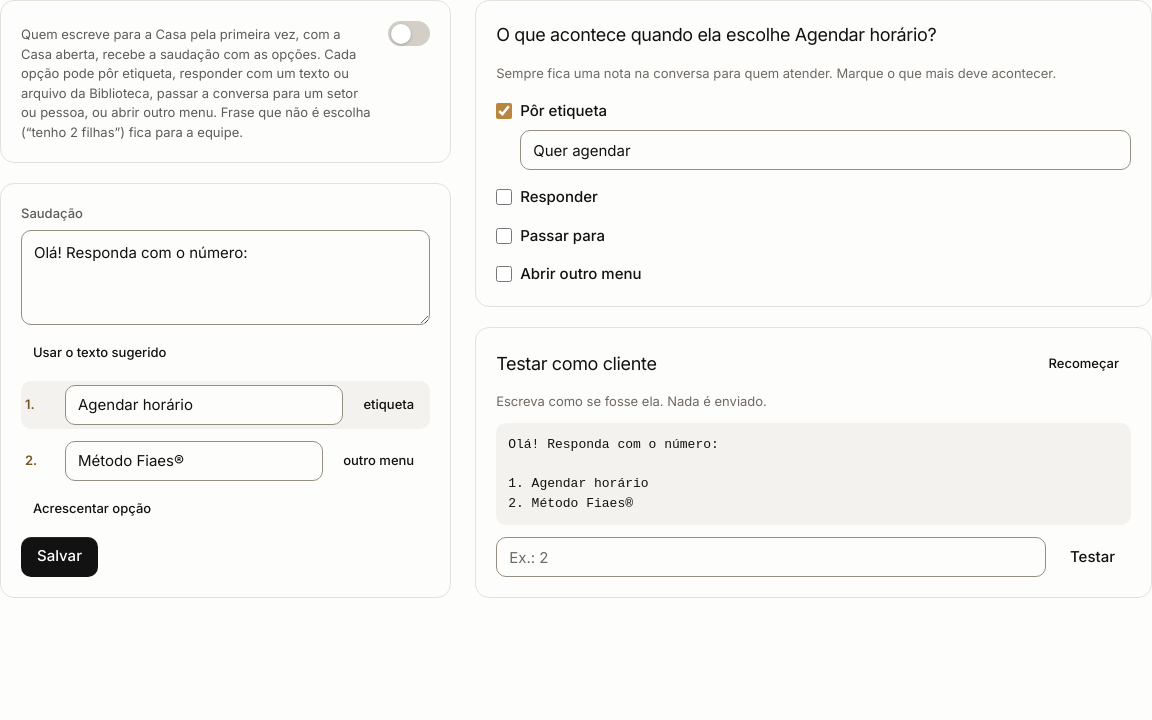
Test case: Testar como cliente: usa o menu da tela, entra no submenu e não envia nada
This screenshot has width=1152, height=720.
Expected: the text "1. Agendar horário" is shown, [508, 437, 719, 510]
In the field named "Ela escreve": (771,557) [496, 537, 1046, 577], type "tenho 2 filhas"
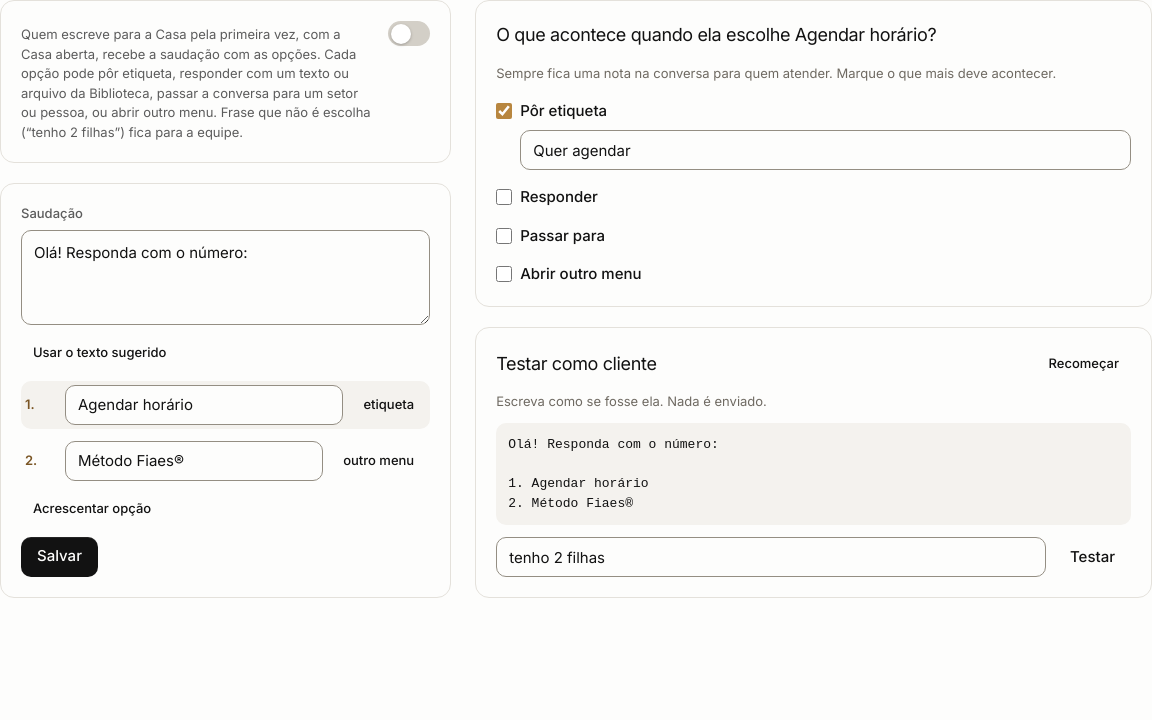
Click the button "Testar": (1092,557) [1054, 537, 1131, 577]
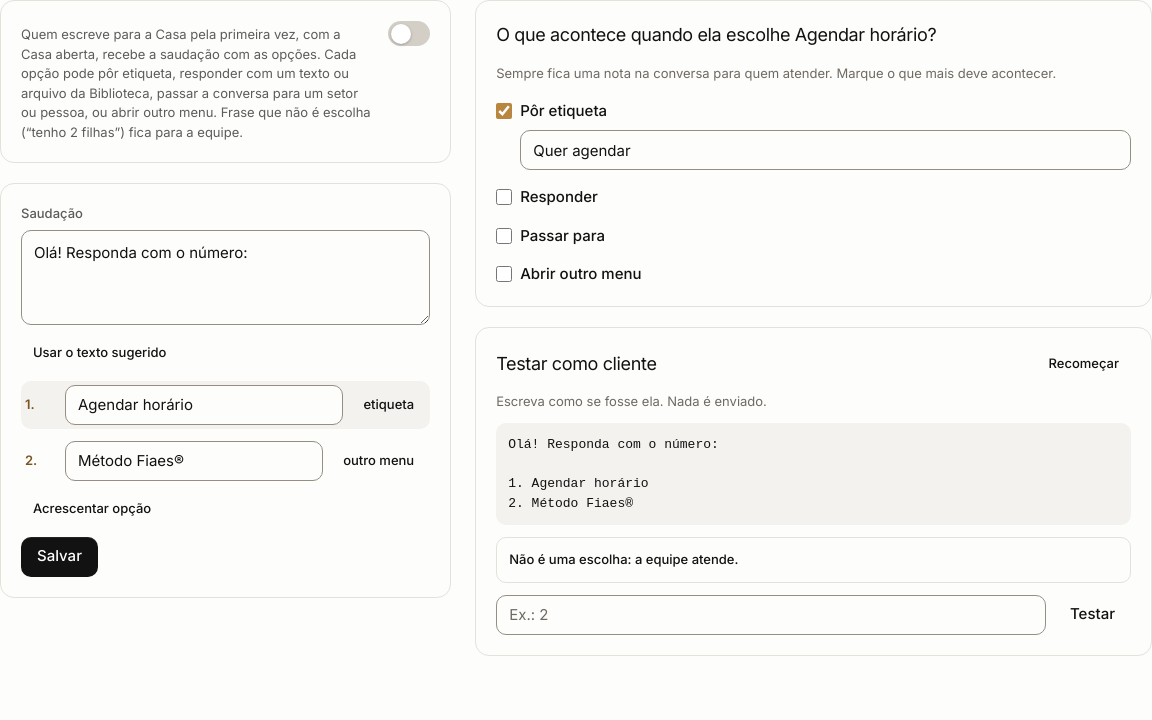
Result: the text "Não é uma escolha: a equipe atende." is shown at [509, 551, 738, 567]
In the field named "Ela escreve": (771,614) [496, 594, 1046, 634], type "2️⃣"
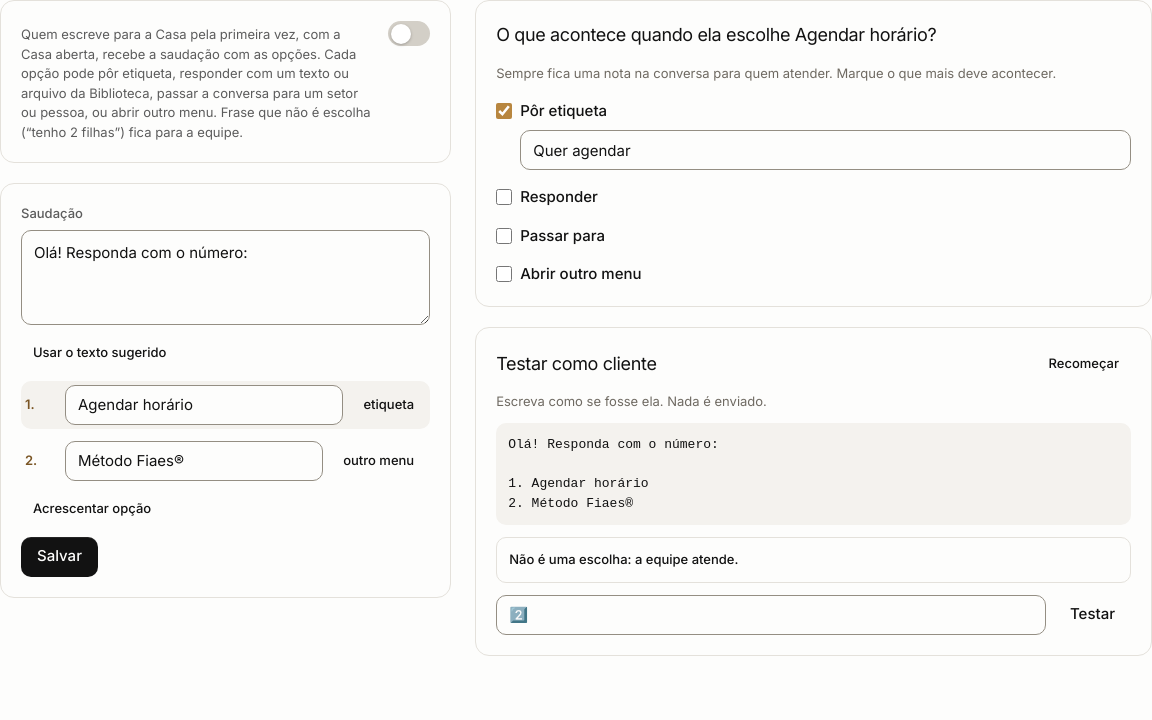
Click the button "Testar": (1092,614) [1054, 594, 1131, 634]
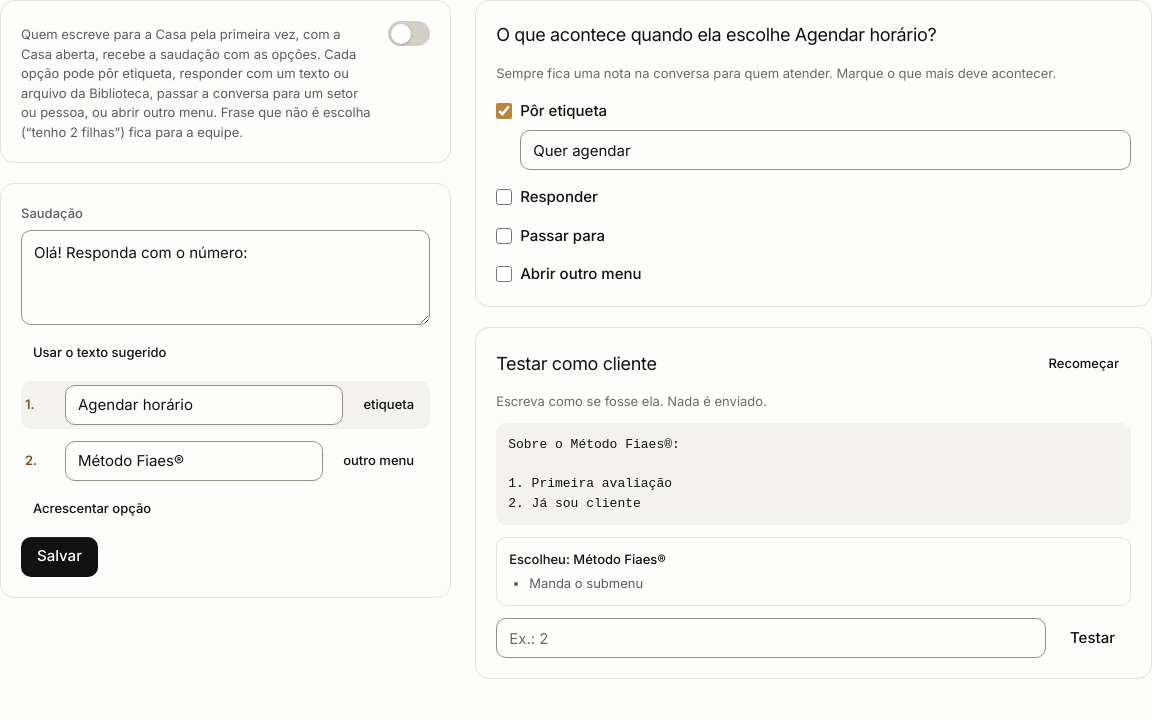
Result: the text "1. Primeira avaliação" is shown at [508, 437, 680, 510]
In the field named "Ela escreve": (771,638) [496, 618, 1046, 658], type "1"
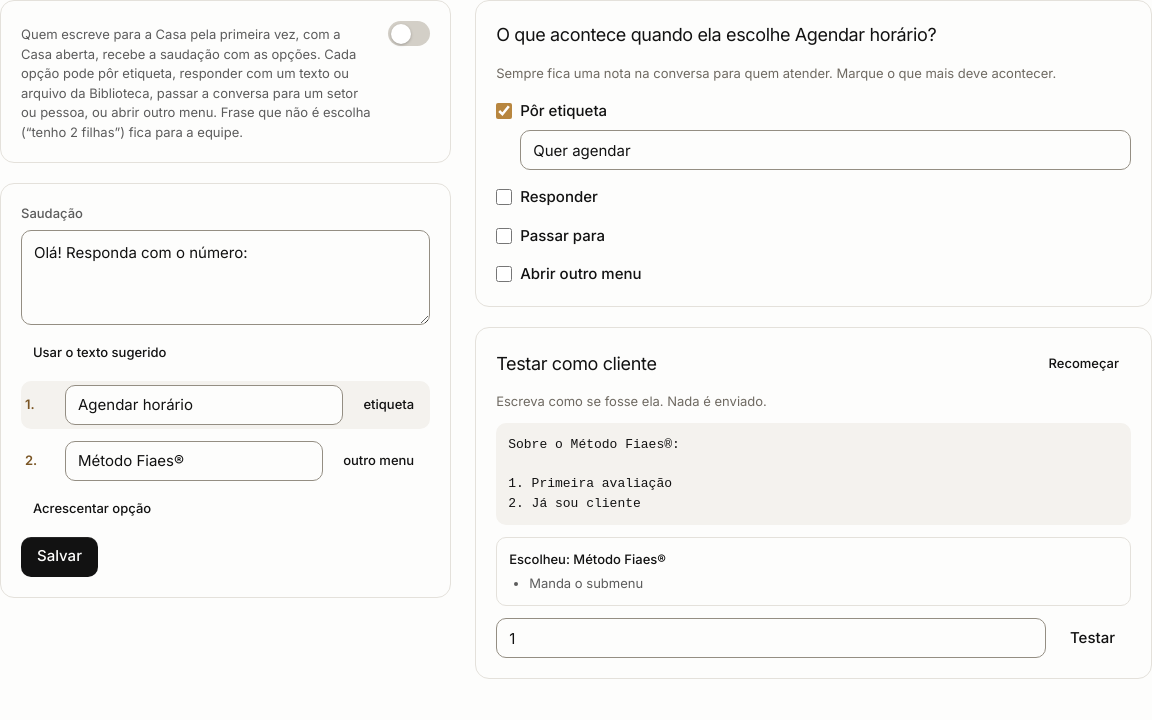
Click the button "Testar": (1092,638) [1054, 618, 1131, 658]
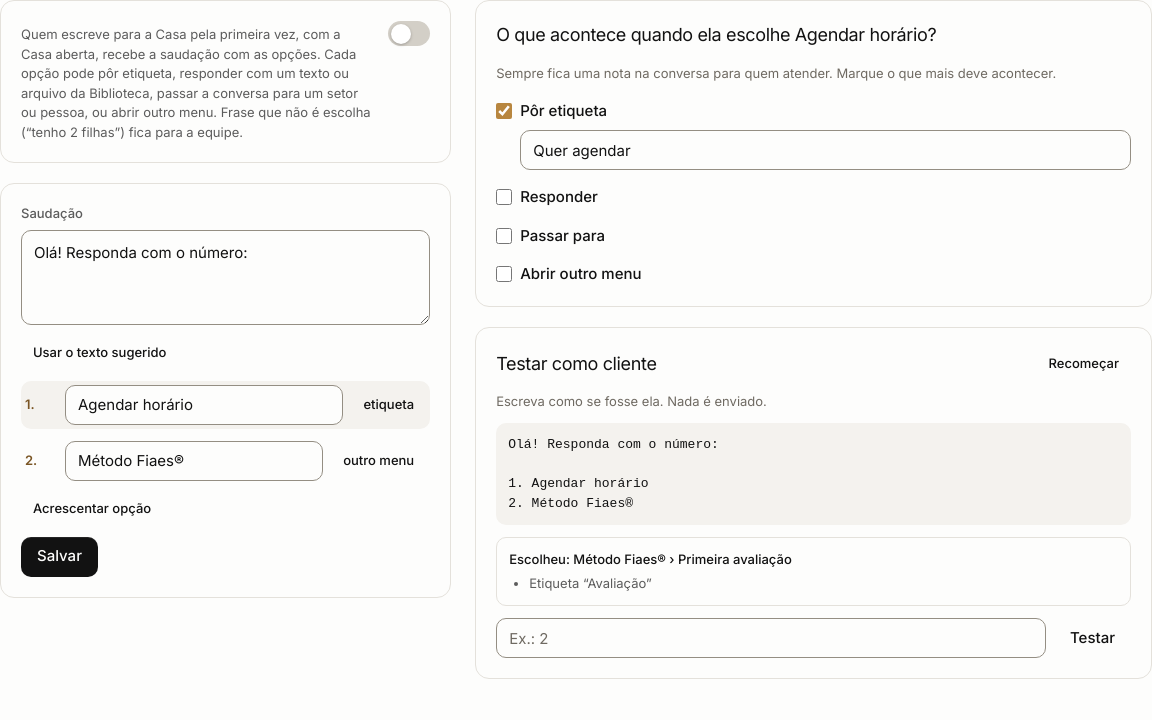
Result: the text "Escolheu: Método Fiaes® › Primeira avaliação" is shown at [509, 551, 792, 567]
Result: the list item "Etiqueta “Avaliação”" is shown at [529, 574, 652, 590]
